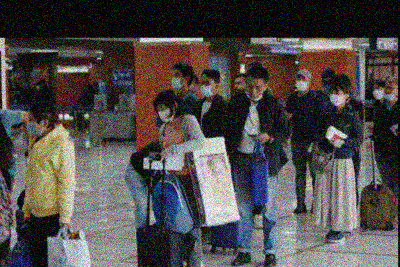mask_weared_incorrect: (247, 80, 264, 102), (385, 83, 398, 102)
with_mask: (26, 113, 42, 138), (200, 76, 216, 98), (157, 103, 174, 123), (294, 76, 310, 93), (330, 88, 344, 106), (172, 71, 184, 90), (373, 85, 386, 100)
without_mask: (233, 78, 247, 94)
